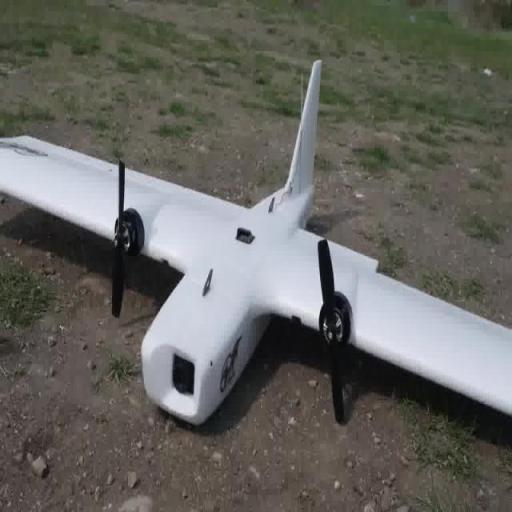uav: (0, 58, 512, 436)
